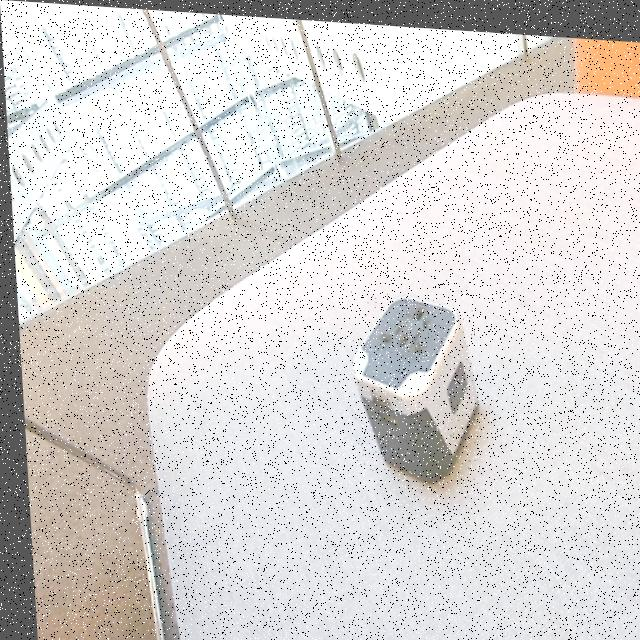adapter: (344, 285, 478, 480)
